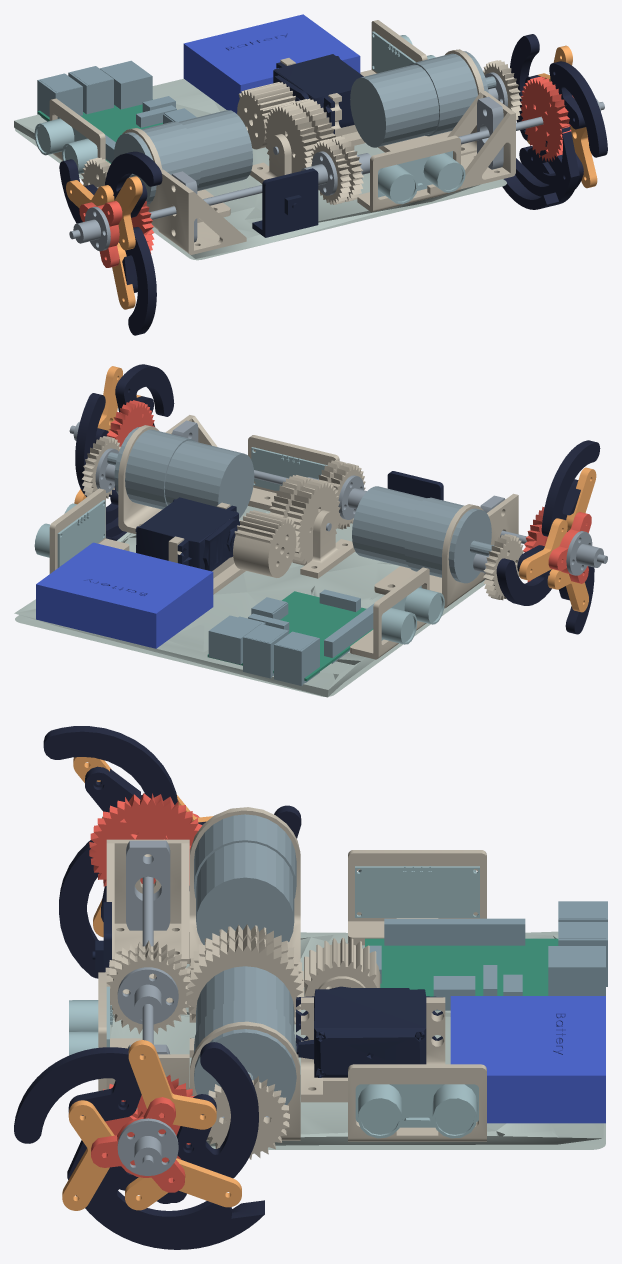
Rendered from rover.glb.
The picture shows the model from 3 angles, top to bottom: view 1: azimuth 30°, elevation 25°; view 2: azimuth 150°, elevation 25°; view 3: azimuth 270°, elevation 25°; orthographic projection. The views are drawn at different scales.
Parts seen in each view (by area): view 1: rover; view 2: rover; view 3: rover.
Boxes of the visible parts, x1=… form: rover: x1=14, y1=14, x2=607, y2=335; rover: x1=14, y1=364, x2=607, y2=697; rover: x1=14, y1=726, x2=607, y2=1249.
Bounding box in the file's own units: 0.302 × 0.0983 × 0.2141.
